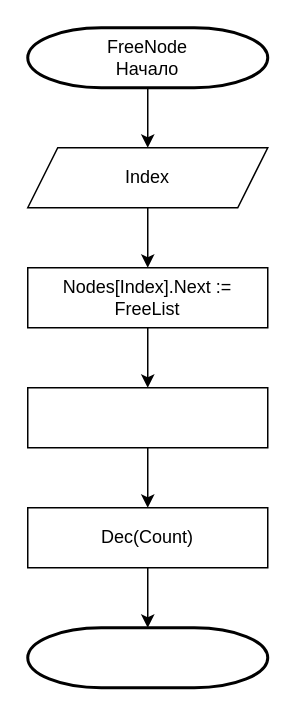
Some shapes in this 294 by 714 pixel diagram are drawn without their labels. Each missing label, with the centre of its shape:
"FreeList := Index" belongs at point 147,417.
"FreeNode Конец" belongs at point 147,657.
